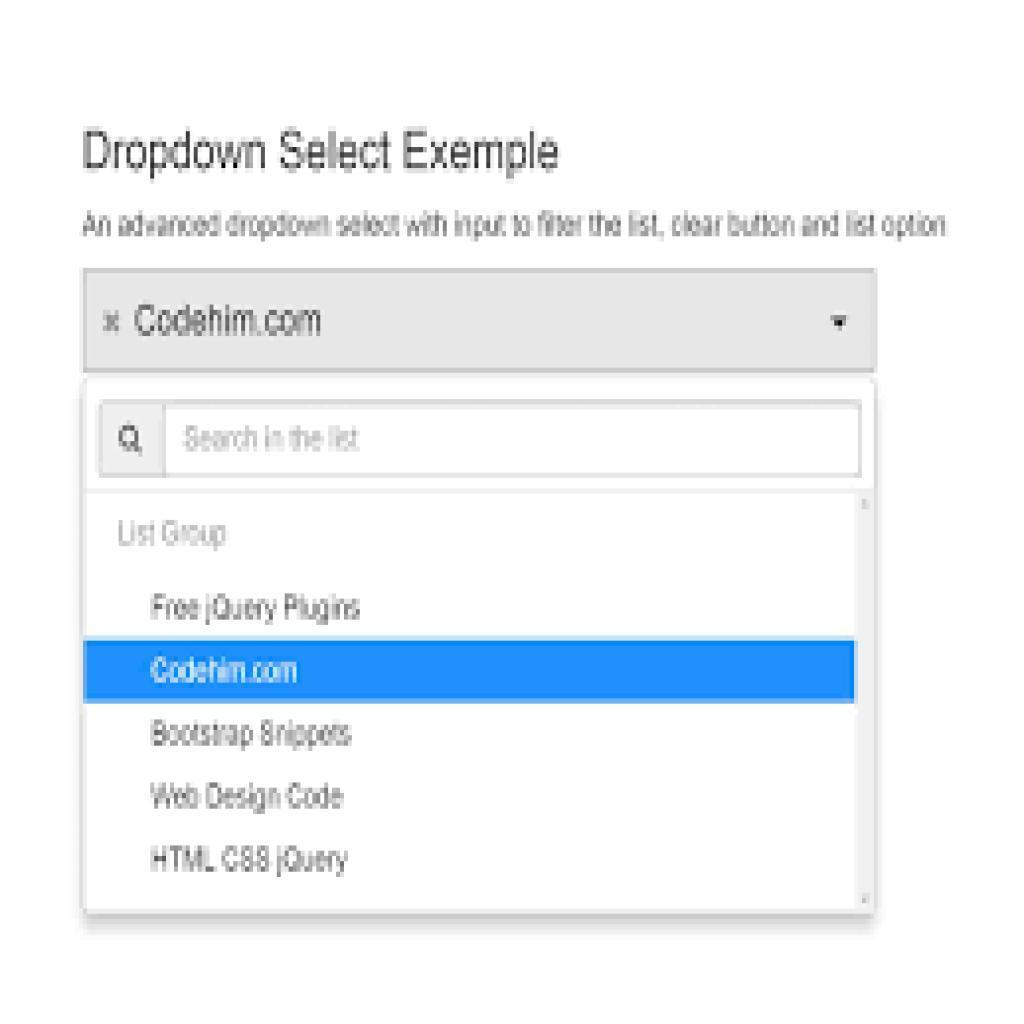dropdown: (82, 265, 879, 375)
icon: (102, 403, 165, 476)
input: (167, 404, 861, 477)
